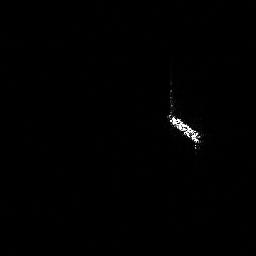ship: (163, 108, 206, 152)
